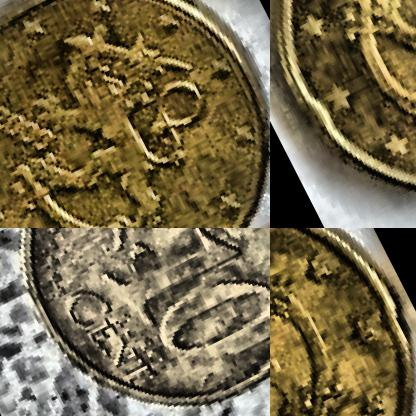coin: (0, 0, 269, 227), (0, 228, 269, 415), (270, 0, 415, 227), (270, 228, 415, 415)
